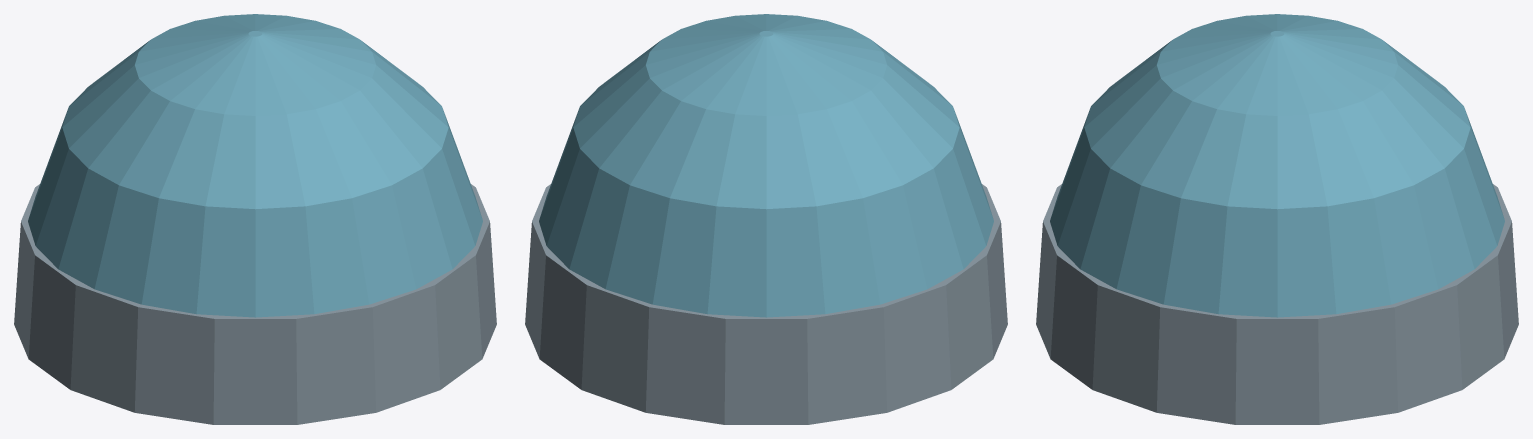
The model's file is MarsDomes.glb.
3 views of the same model, side by side, from view 1: azimuth 30°, elevation 25°; view 2: azimuth 150°, elevation 25°; view 3: azimuth 270°, elevation 25° (orthographic).
Parts seen in each view (by area): view 1: MarsDomesHull; view 2: MarsDomesHull; view 3: MarsDomesHull.
Part boxes in pixels (x1=…): MarsDomesHull: x1=14, y1=14, x2=496, y2=424; MarsDomesHull: x1=525, y1=14, x2=1007, y2=424; MarsDomesHull: x1=1036, y1=14, x2=1518, y2=424.
Bounding box in the file's own units: 1.38 × 0.93 × 1.4.
